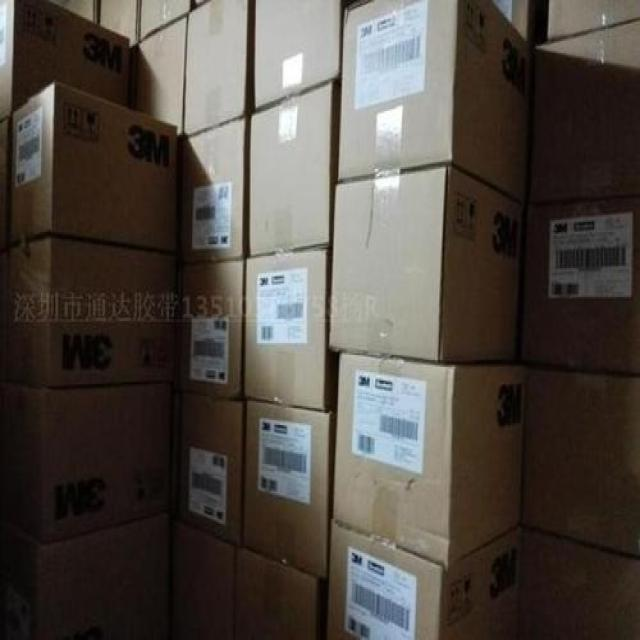box: (334, 353, 528, 567), (339, 0, 534, 203), (329, 164, 526, 363), (8, 81, 177, 254), (7, 234, 177, 387), (325, 523, 523, 638), (522, 366, 639, 560), (518, 198, 639, 375), (41, 382, 174, 541), (527, 19, 639, 204), (243, 400, 332, 577), (0, 1, 129, 119), (249, 81, 332, 256), (245, 249, 328, 410), (523, 526, 639, 638), (176, 394, 243, 547), (177, 117, 245, 265), (255, 0, 341, 109), (177, 259, 244, 398), (184, 0, 248, 135), (126, 14, 187, 137), (235, 547, 317, 636), (548, 1, 639, 41), (139, 0, 190, 40), (99, 0, 137, 46), (494, 0, 529, 39), (49, 0, 98, 24)
